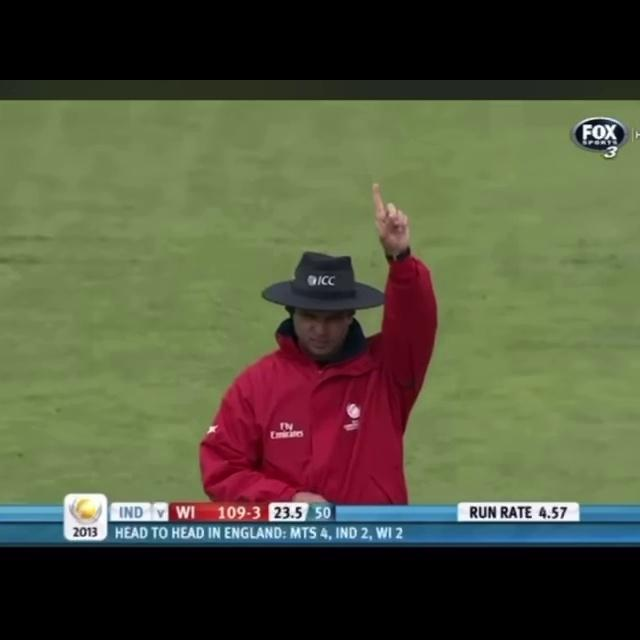umpire: (170, 158, 515, 492)
